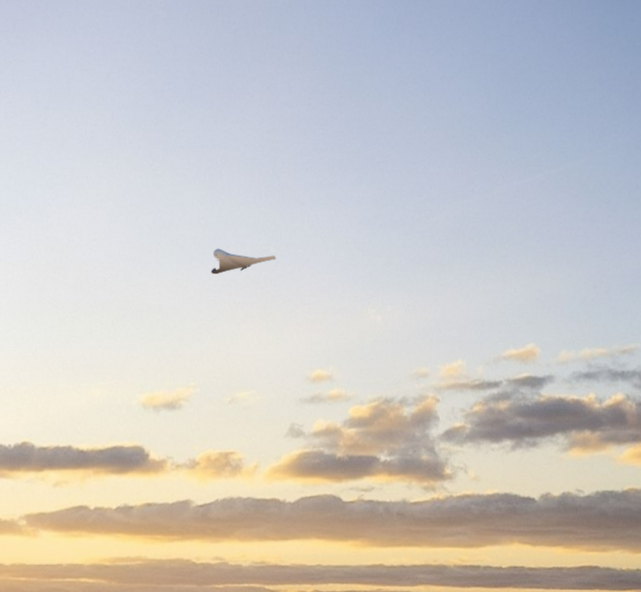military drone: (211, 248, 276, 273)
